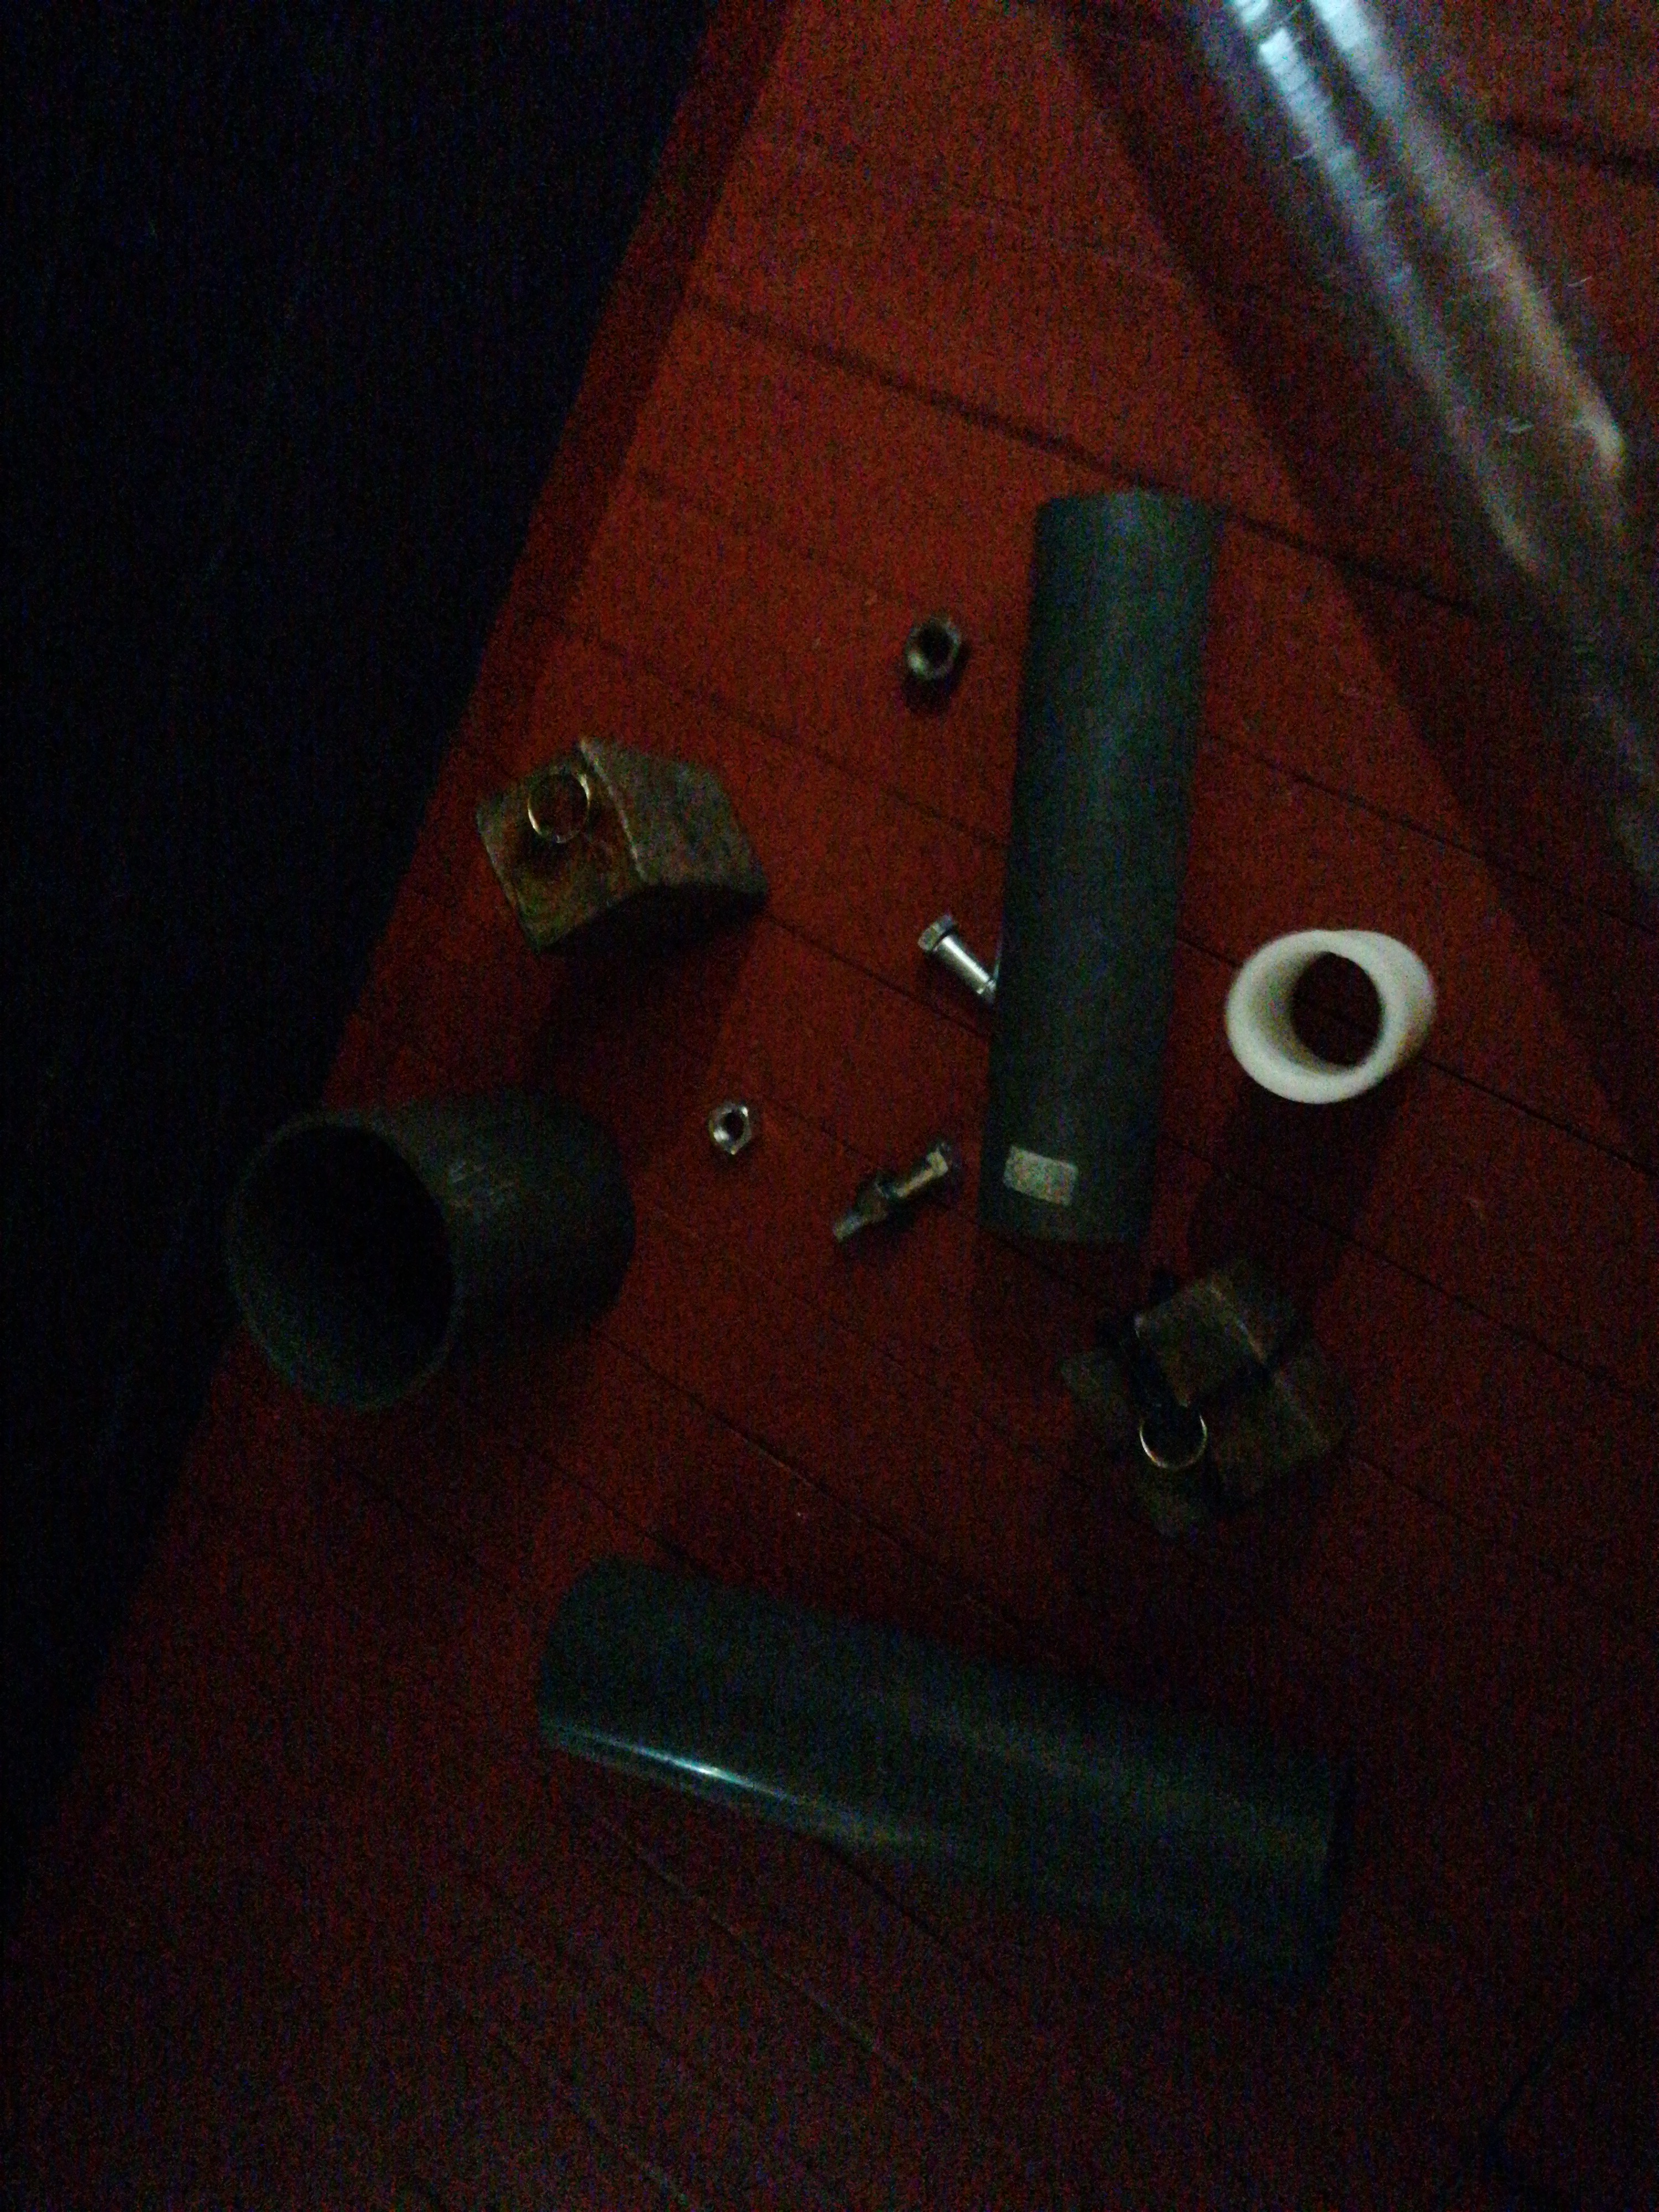bolt: (831, 1137, 960, 1245), (917, 913, 1002, 1005)
led_block: (1056, 1256, 1354, 1543), (472, 738, 769, 958)
nut: (899, 611, 969, 688), (704, 1099, 762, 1158), (854, 1167, 906, 1231)
pipe: (1188, 0, 1659, 888), (530, 1555, 1363, 1980), (972, 491, 1213, 1251), (227, 1090, 634, 1407), (1223, 928, 1439, 1108)
